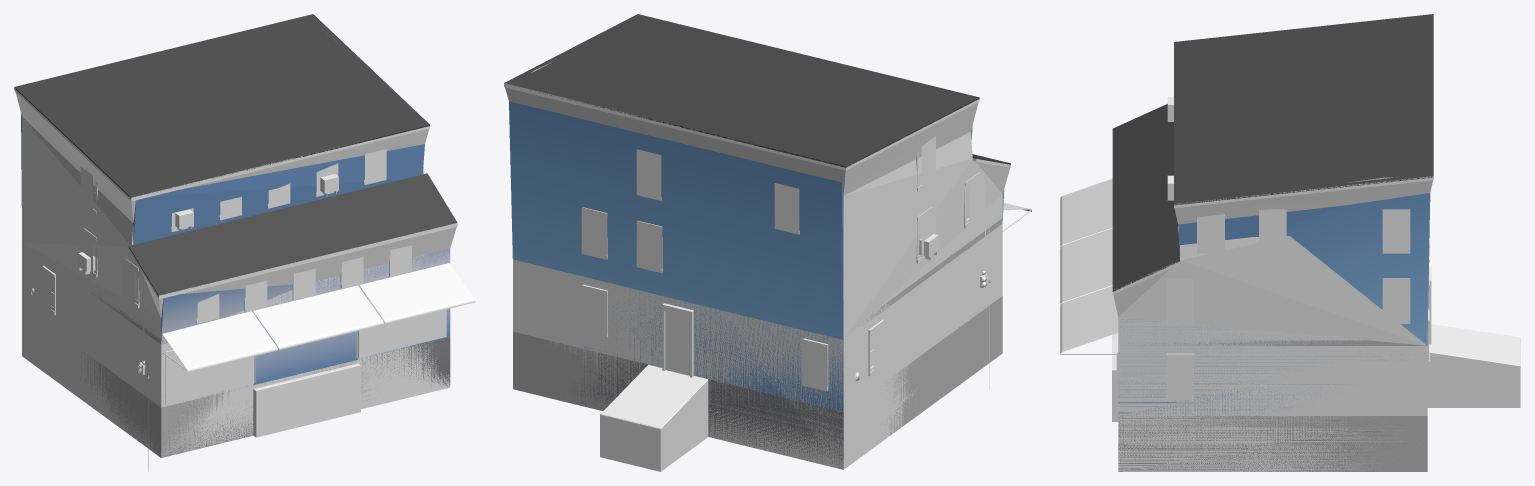
Rendered from eca_bld_shop_town_bwhite.dae.
The picture shows the model from 3 angles, left to right: view 1: azimuth 30°, elevation 25°; view 2: azimuth 150°, elevation 25°; view 3: azimuth 270°, elevation 25°; orthographic projection. The views are drawn at different scales.
Parts seen in each view (by area): view 1: eca_bld_shop_town_bwhite_a100, eca_bld_shop_town_bwhite_a550, Colmesh-1, eca_bld_shop_town_bwhite_a15; view 2: eca_bld_shop_town_bwhite_a100, eca_bld_shop_town_bwhite_a15, eca_bld_shop_town_bwhite_a550, Colmesh-1; view 3: eca_bld_shop_town_bwhite_a100, Colmesh-1, eca_bld_shop_town_bwhite_a550, eca_bld_shop_town_bwhite_a15.
Boxes of the visible parts, x1=… form: eca_bld_shop_town_bwhite_a100: x1=15, y1=14, x2=457, y2=457; eca_bld_shop_town_bwhite_a550: x1=14, y1=14, x2=475, y2=471; Colmesh-1: x1=15, y1=92, x2=456, y2=457; eca_bld_shop_town_bwhite_a15: x1=21, y1=113, x2=450, y2=456; eca_bld_shop_town_bwhite_a100: x1=504, y1=14, x2=1031, y2=471; eca_bld_shop_town_bwhite_a15: x1=509, y1=101, x2=1004, y2=469; eca_bld_shop_town_bwhite_a550: x1=504, y1=14, x2=1031, y2=469; Colmesh-1: x1=505, y1=87, x2=1009, y2=469; eca_bld_shop_town_bwhite_a100: x1=1060, y1=14, x2=1520, y2=471; Colmesh-1: x1=1112, y1=180, x2=1432, y2=471; eca_bld_shop_town_bwhite_a550: x1=1060, y1=17, x2=1520, y2=471; eca_bld_shop_town_bwhite_a15: x1=1118, y1=193, x2=1430, y2=471.
Size of the model in its own units: 12.59 by 14.87 by 11.54.
